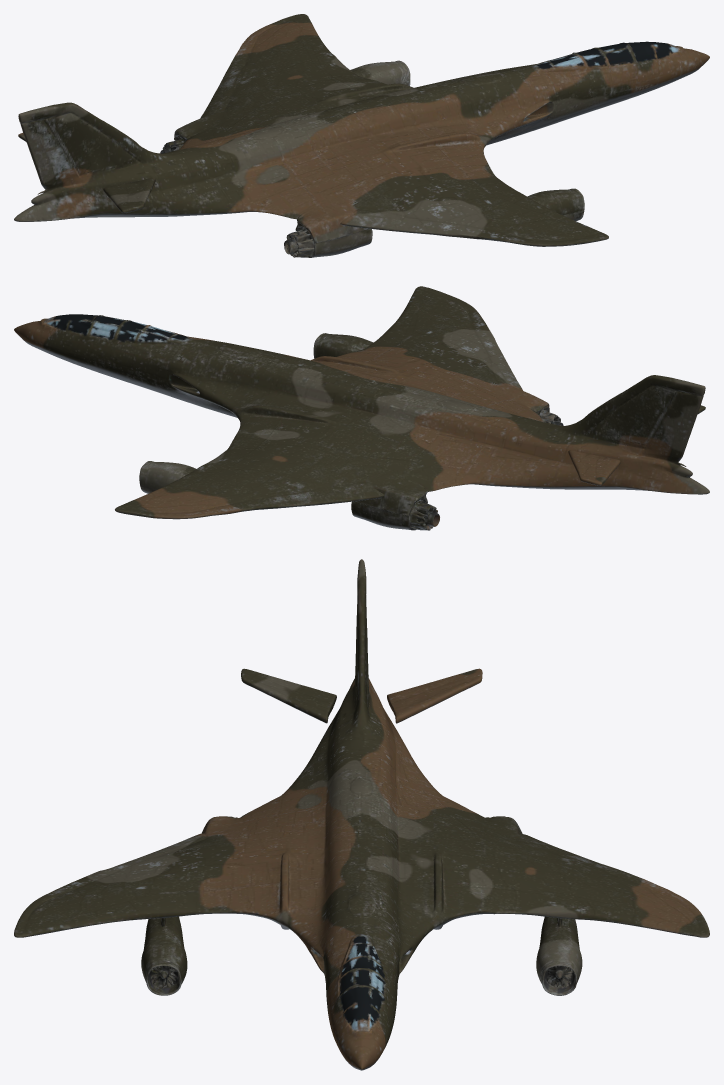
The model's file is fh_hangar_bomber_t4.glb.
3 renders of one model, top to bottom at view 1: azimuth 30°, elevation 25°; view 2: azimuth 150°, elevation 25°; view 3: azimuth 270°, elevation 25°, orthographic. The views are drawn at different scales.
Parts seen in each view (by area): view 1: fh_hangar_bomber_t4, flap_r, flap_r2, flap_l2, flap_l, slat_r, slat_l; view 2: fh_hangar_bomber_t4, flap_l, flap_l2, flap_r2, flap_r, slat_l, slat_r; view 3: fh_hangar_bomber_t4, slat_l, slat_r, flap_r, flap_l, flap_r2, flap_l2.
Boxes of the visible parts, <box> form: fh_hangar_bomber_t4: <box>14,14,709,257</box>; flap_r: <box>192,179,336,216</box>; flap_r2: <box>355,206,492,238</box>; flap_l2: <box>204,53,252,112</box>; flap_l: <box>180,118,235,149</box>; slat_r: <box>516,198,594,230</box>; slat_l: <box>301,20,329,53</box>; fh_hangar_bomber_t4: <box>14,286,709,530</box>; flap_l: <box>387,452,530,489</box>; flap_l2: <box>230,478,368,510</box>; flap_r2: <box>471,326,519,384</box>; flap_r: <box>487,390,543,421</box>; slat_l: <box>129,471,207,503</box>; slat_r: <box>393,293,422,325</box>; fh_hangar_bomber_t4: <box>14,559,709,1070</box>; slat_l: <box>590,903,685,934</box>; slat_r: <box>38,903,133,934</box>; flap_r: <box>248,771,302,827</box>; flap_l: <box>421,772,475,827</box>; flap_r2: <box>88,838,188,884</box>; flap_l2: <box>535,839,635,884</box>.
Size of the model in its own units: 1 by 0.2186 by 0.7627.
3 materials, 2 textured.
